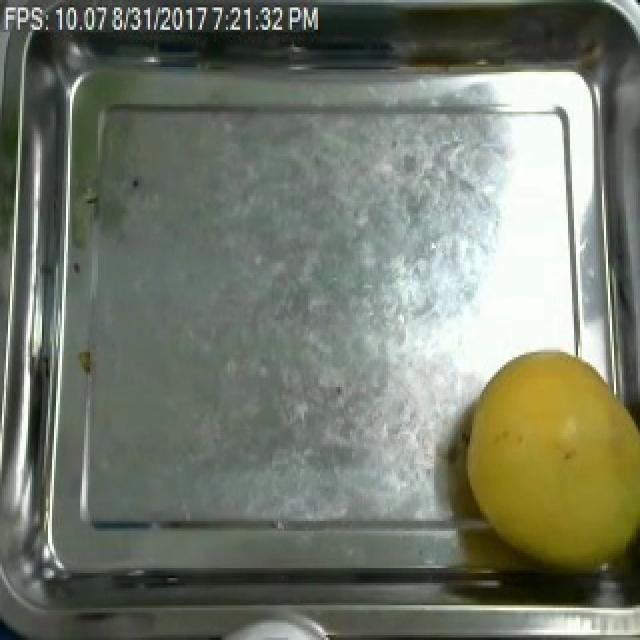fruit: (452, 340, 640, 590)
